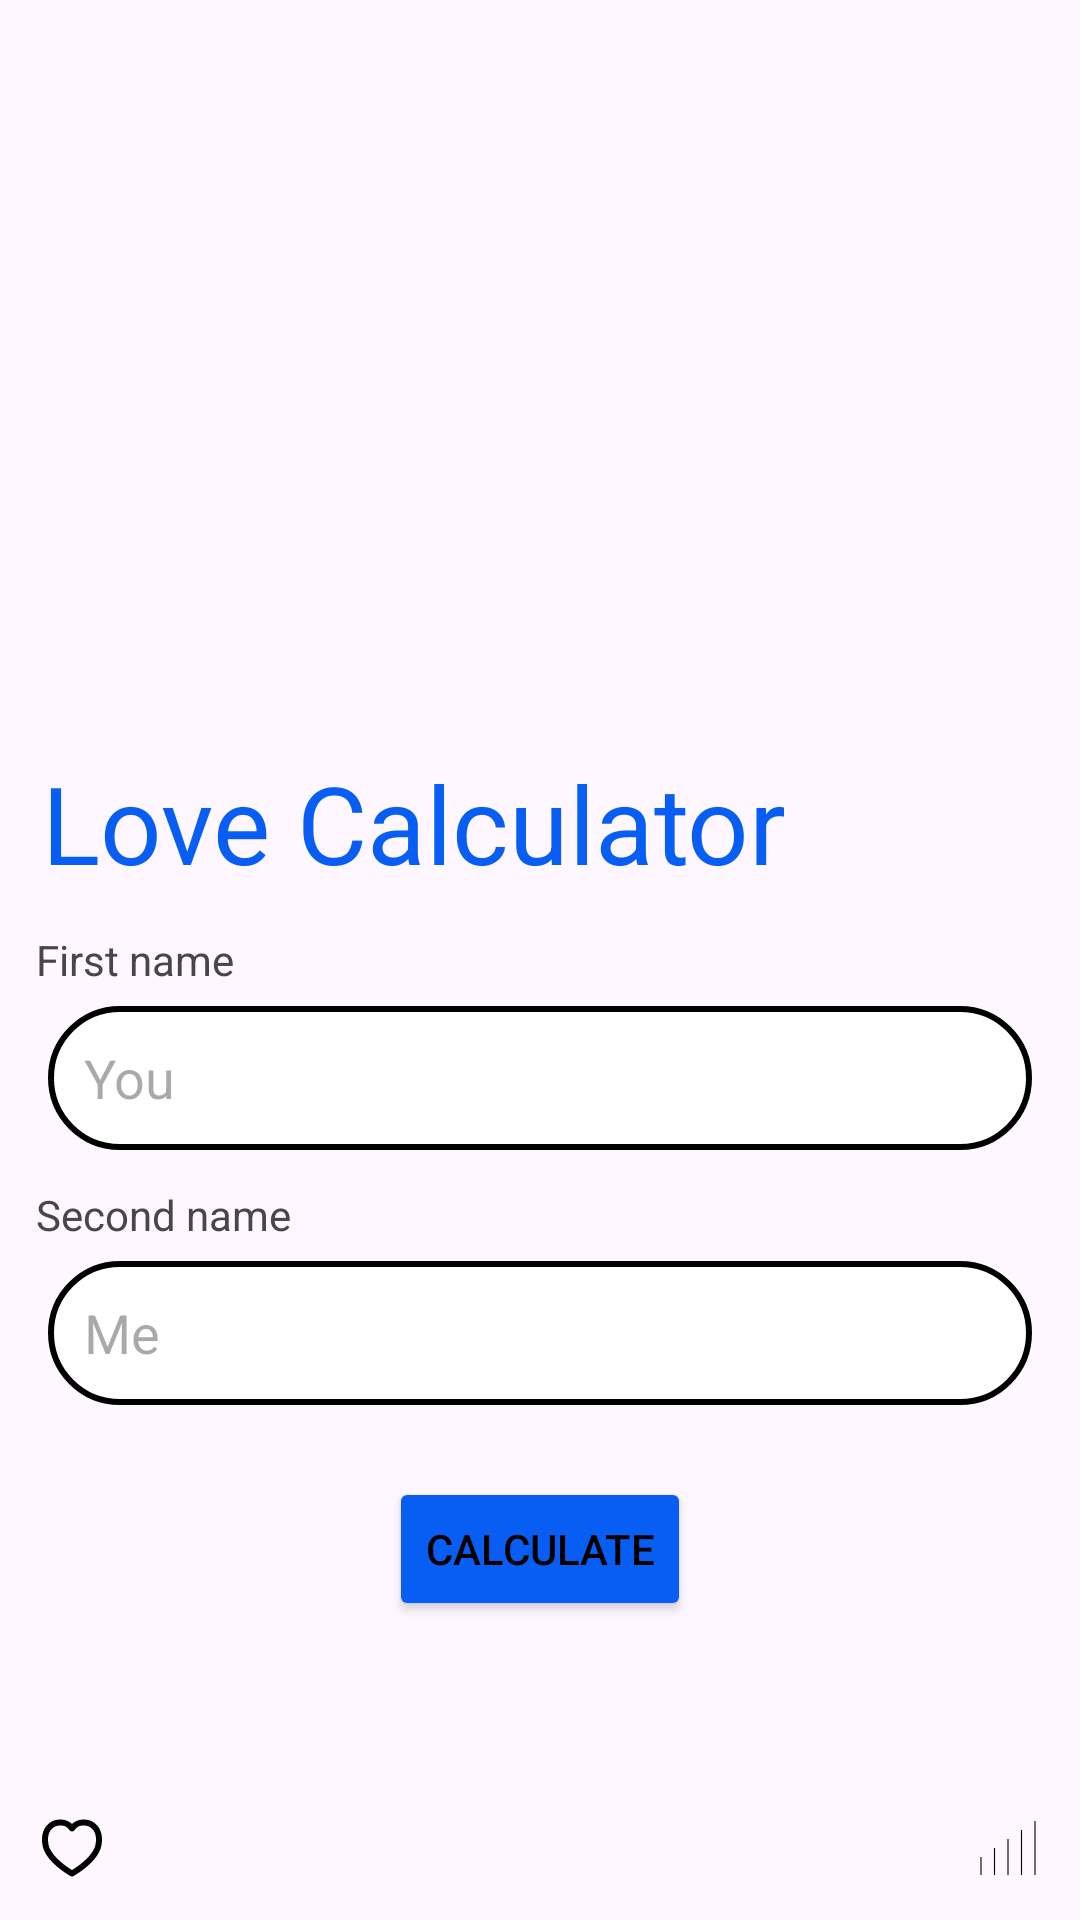

Screen size 1080*1920. Icon name, then its center in pixels as (x=x, y=y):
love: (x=72, y=1848)
